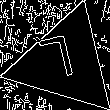L_S: (44, 34, 86, 90)
